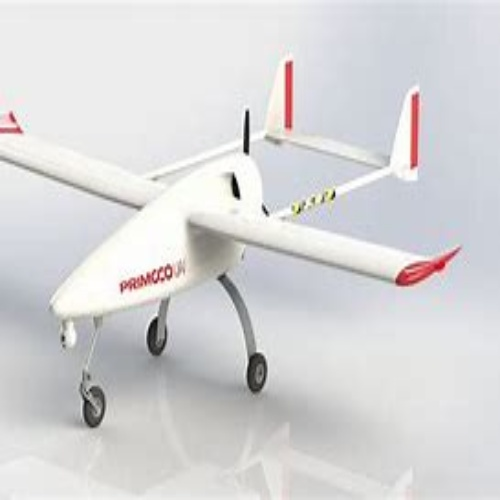uav651: (1, 57, 465, 430)
